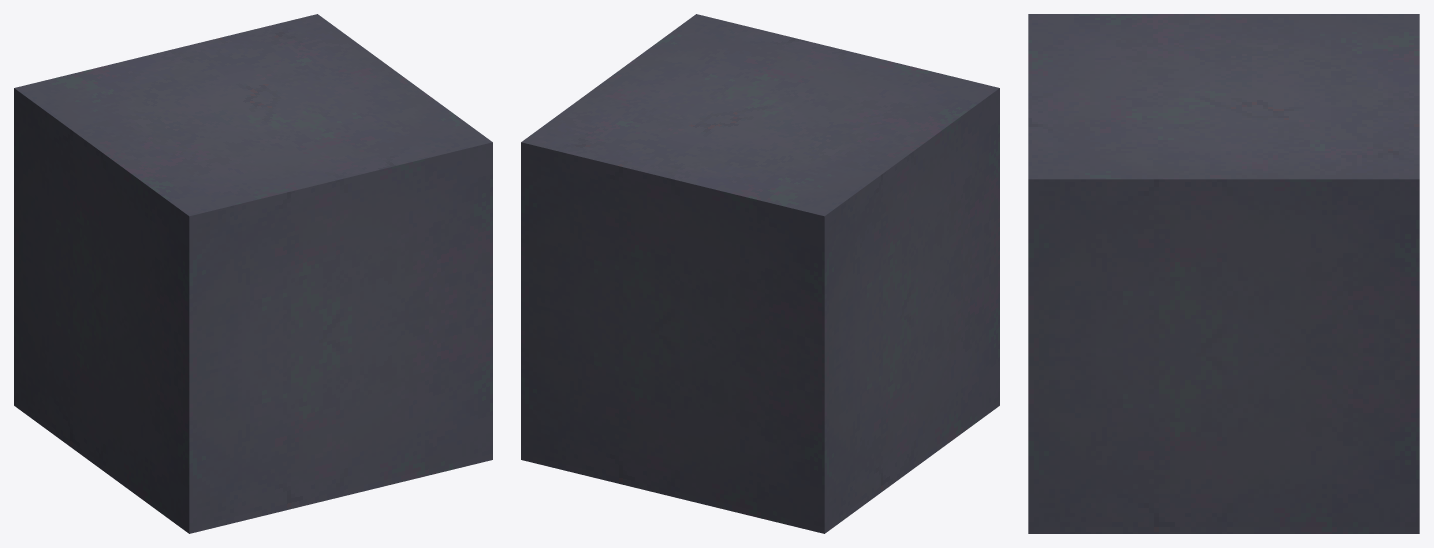
Rendered from Road3.glb.
3 renders of one model, left to right at view 1: azimuth 30°, elevation 25°; view 2: azimuth 150°, elevation 25°; view 3: azimuth 270°, elevation 25°, orthographic. The views are drawn at different scales.
Visible parts, largest first — view 1: Cube.038; view 2: Cube.038; view 3: Cube.038.
Boxes of the visible parts, bbox=[...] form: Cube.038: bbox=[14, 14, 492, 533]; Cube.038: bbox=[521, 14, 999, 533]; Cube.038: bbox=[1028, 14, 1419, 533].
Bounding box in the file's own units: 8 × 8 × 8.
Materials: 1 (1 with a texture image).
